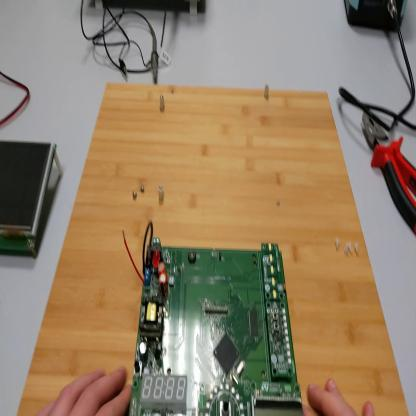hand: (40, 363, 134, 414), (305, 376, 376, 415)
low voltage board: (122, 215, 302, 415)
oscilloscope: (93, 2, 207, 17)
oscilloscope probe tip: (149, 25, 161, 85)
pliers: (364, 114, 416, 237)
welder station: (345, 1, 410, 39)
working area: (18, 81, 410, 413)
